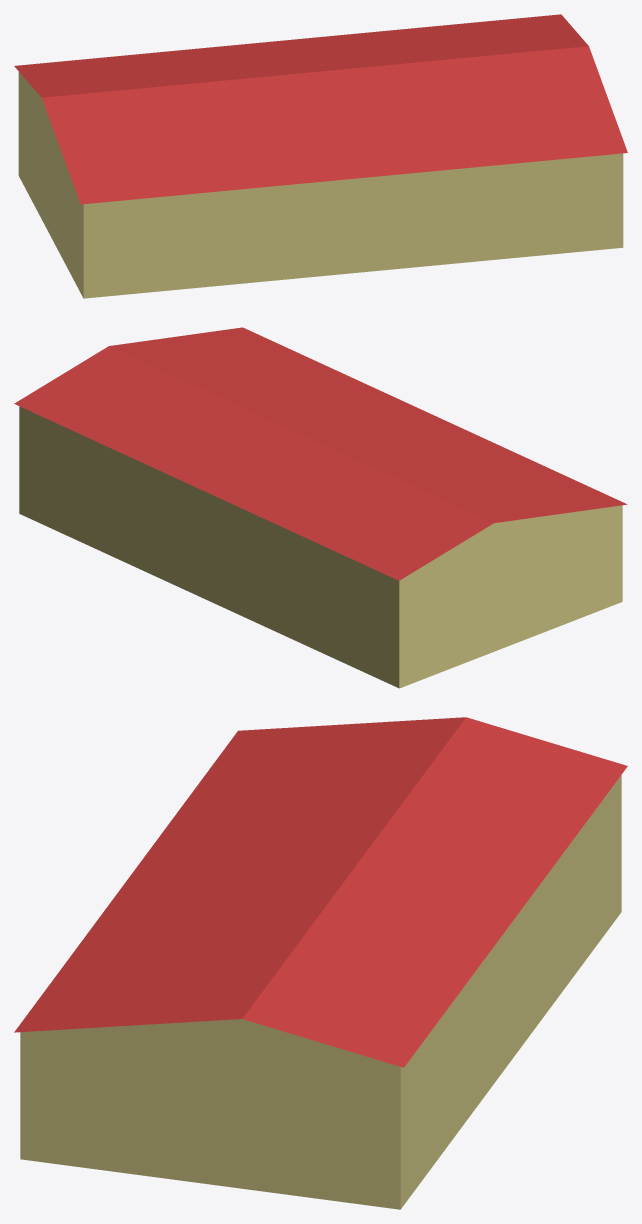
The picture shows the model from 3 angles, top to bottom: view 1: azimuth 30°, elevation 25°; view 2: azimuth 150°, elevation 25°; view 3: azimuth 270°, elevation 25°; orthographic projection. The views are drawn at different scales.
Bounding box in the file's own units: 41.05 × 30.13 × 9.31.
